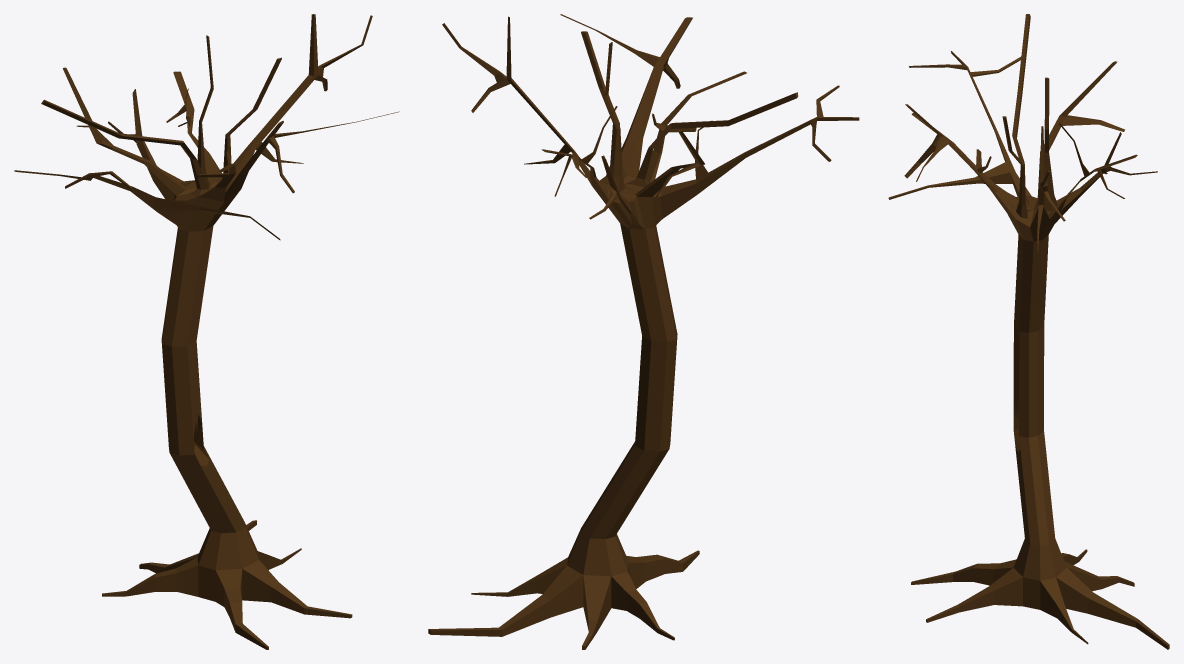
Rendered from Stone_tree.fbx.
The picture shows the model from 3 angles, left to right: view 1: azimuth 30°, elevation 25°; view 2: azimuth 150°, elevation 25°; view 3: azimuth 270°, elevation 25°; orthographic projection. The views are drawn at different scales.
Parts seen in each view (by area): view 1: Stone_DeadTree; view 2: Stone_DeadTree; view 3: Stone_DeadTree.
Part boxes in pixels (x1,y1,x2,y2): Stone_DeadTree: [14, 14, 399, 649]; Stone_DeadTree: [428, 14, 859, 649]; Stone_DeadTree: [888, 14, 1169, 649].
Size of the model in its own units: 459 by 668 by 326.
